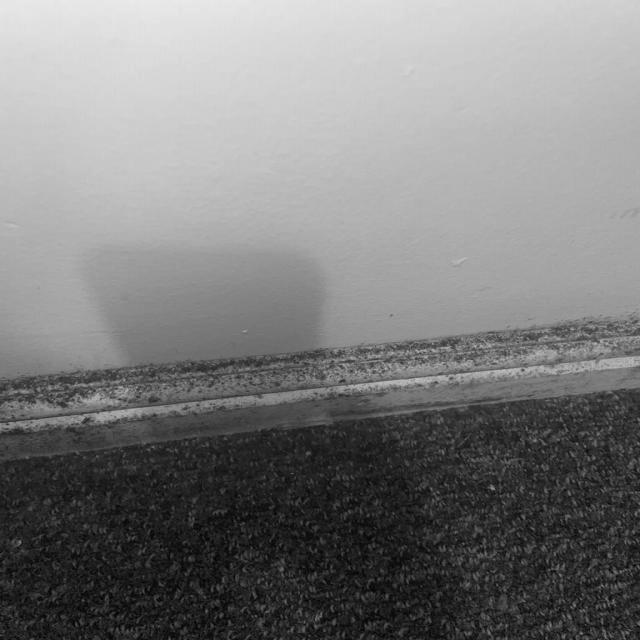stain marks: (227, 348, 375, 432), (377, 332, 521, 416), (106, 364, 234, 448), (0, 368, 111, 461), (505, 313, 640, 377)
